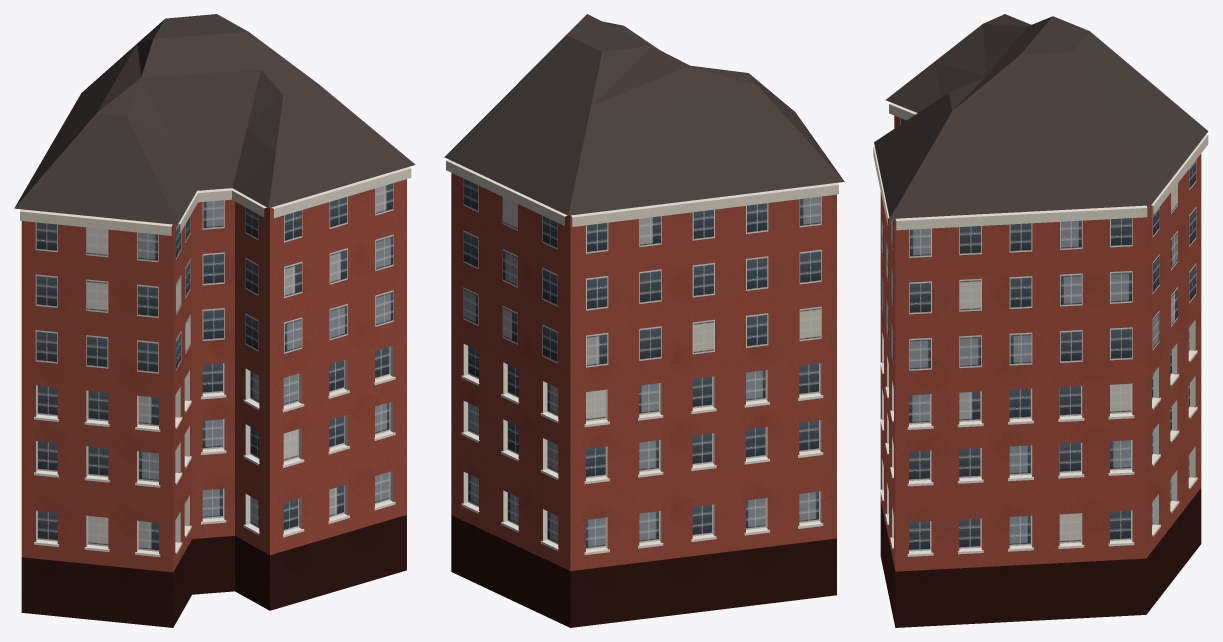
File: z3b_brick_corner.glb
The picture shows the model from 3 angles, left to right: view 1: azimuth 30°, elevation 25°; view 2: azimuth 150°, elevation 25°; view 3: azimuth 270°, elevation 25°; orthographic projection. The views are drawn at different scales.
Visible parts, largest first — view 1: z3b_brick_corner; view 2: z3b_brick_corner; view 3: z3b_brick_corner.
Boxes of the visible parts, x1,y1,x2,y2 form: z3b_brick_corner: (14, 14, 415, 627); z3b_brick_corner: (444, 14, 844, 627); z3b_brick_corner: (873, 14, 1208, 627).
Bounding box in the file's own units: 19.57 × 27.92 × 16.16.
Materials: 3 (3 with a texture image).
